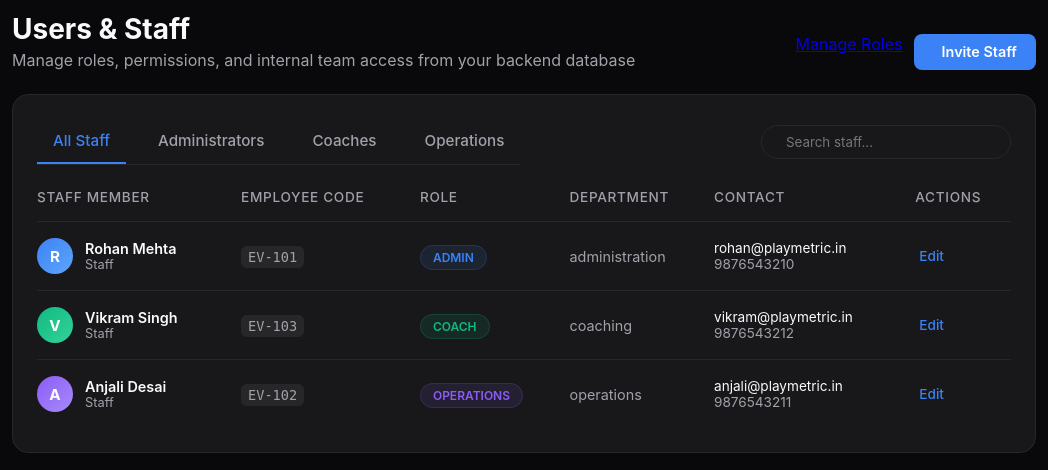
Users Page Directory tests › should filter staff list based on search queries input
Expected: the text "Rohan Mehta" is shown, [85, 240, 176, 257]
In the field with placeholder "Search staff...": [890, 142] box [786, 134, 994, 150], type "Vikram"
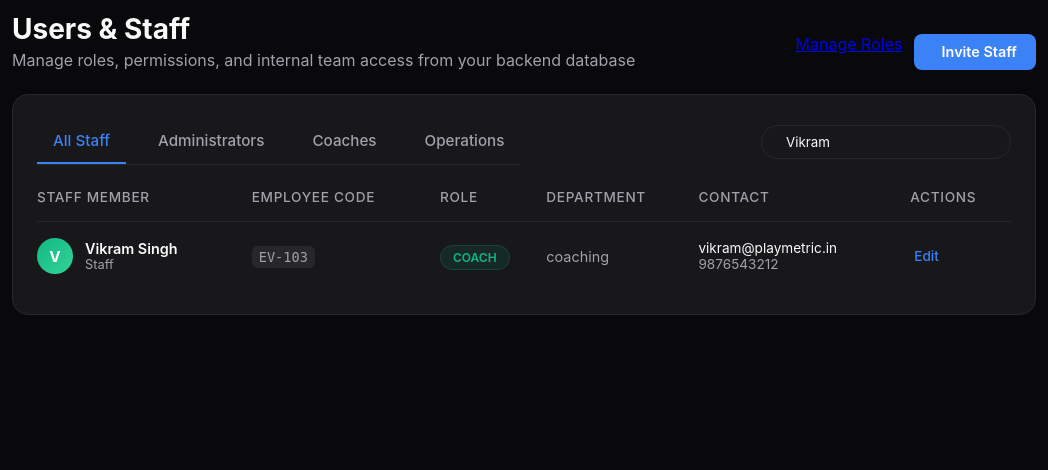
Expected: the text "Vikram Singh" is shown, [85, 240, 178, 257]
Now the text "Rohan Mehta" is gone
Now the text "Anjali Desai" is gone
